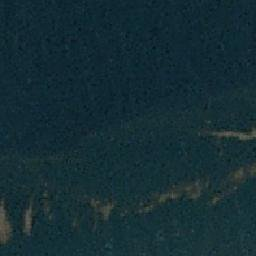debris: (162, 182, 204, 202), (1, 197, 12, 244), (88, 199, 115, 217), (209, 130, 254, 140), (137, 196, 162, 213), (24, 203, 33, 234), (229, 168, 244, 185), (209, 190, 224, 205), (44, 188, 50, 222), (244, 166, 255, 182)
